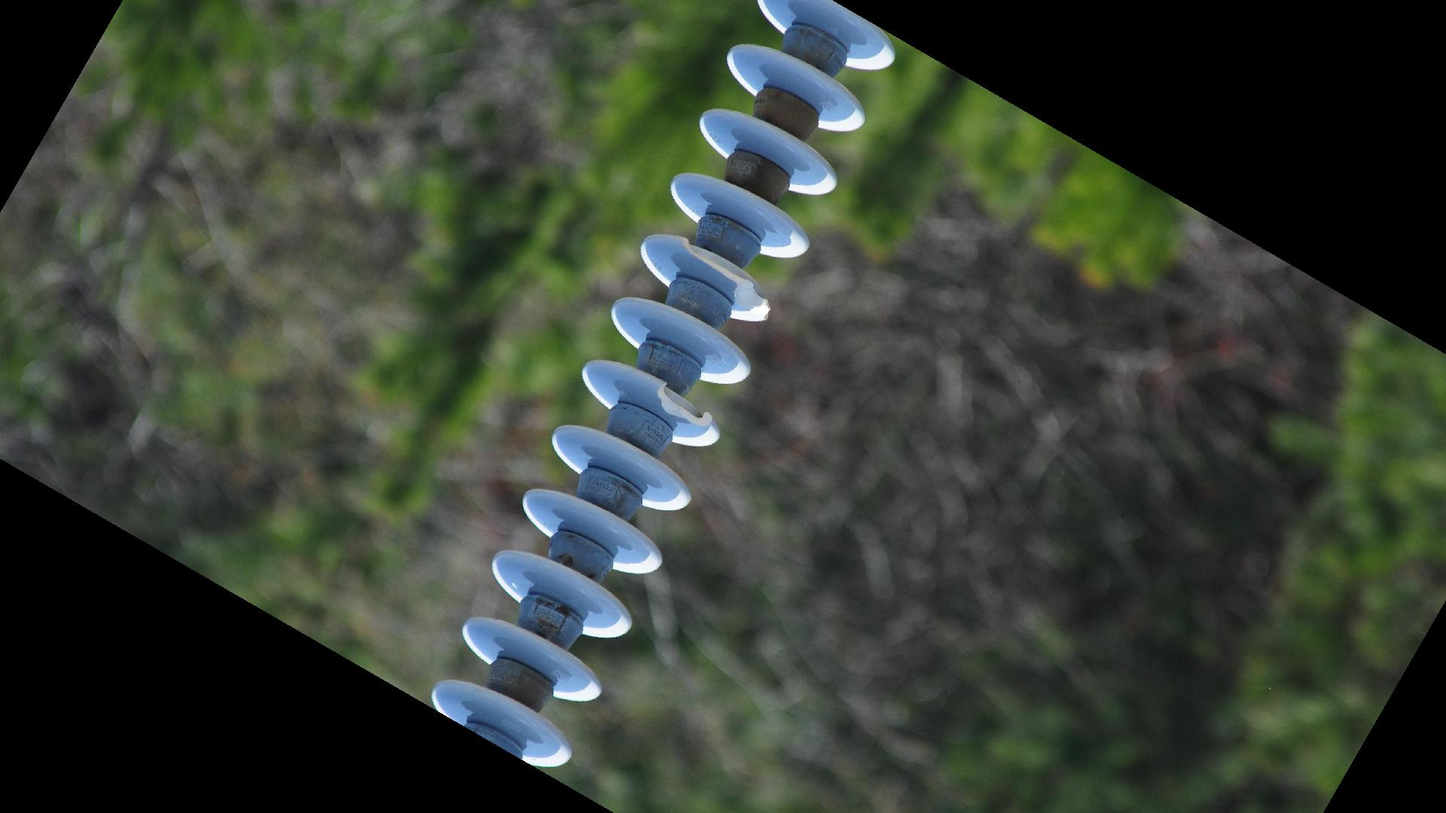insulator: (422, 1, 900, 776)
insulator_breakage: (674, 231, 776, 327), (648, 375, 718, 434)
